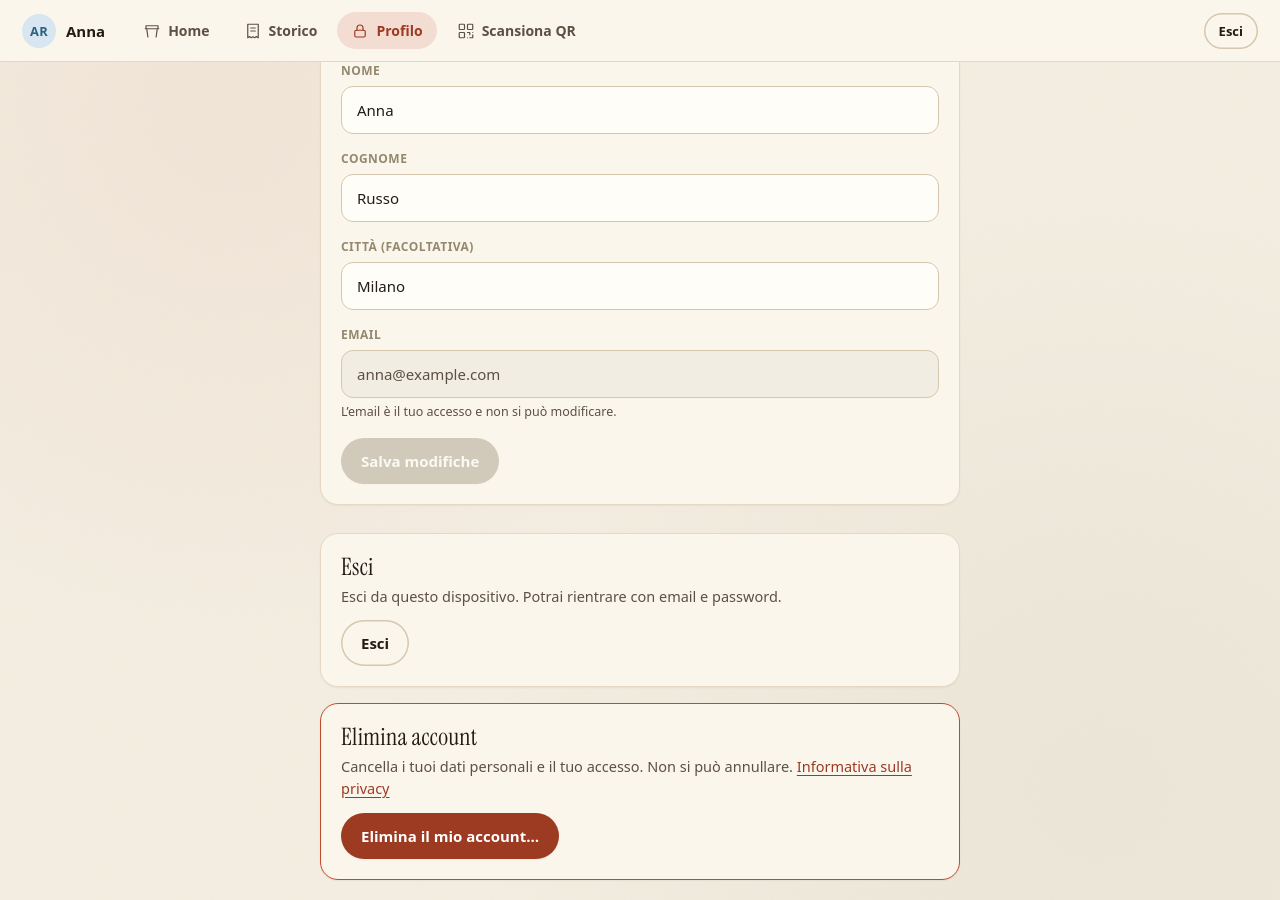
profilo: elimina account › la finestra spiega cosa si cancella e cosa resta, e dà il focus alla password
(page scrolled)
Click the button "Elimina il mio account…".
click(450, 836)  # box [341,813,559,859]
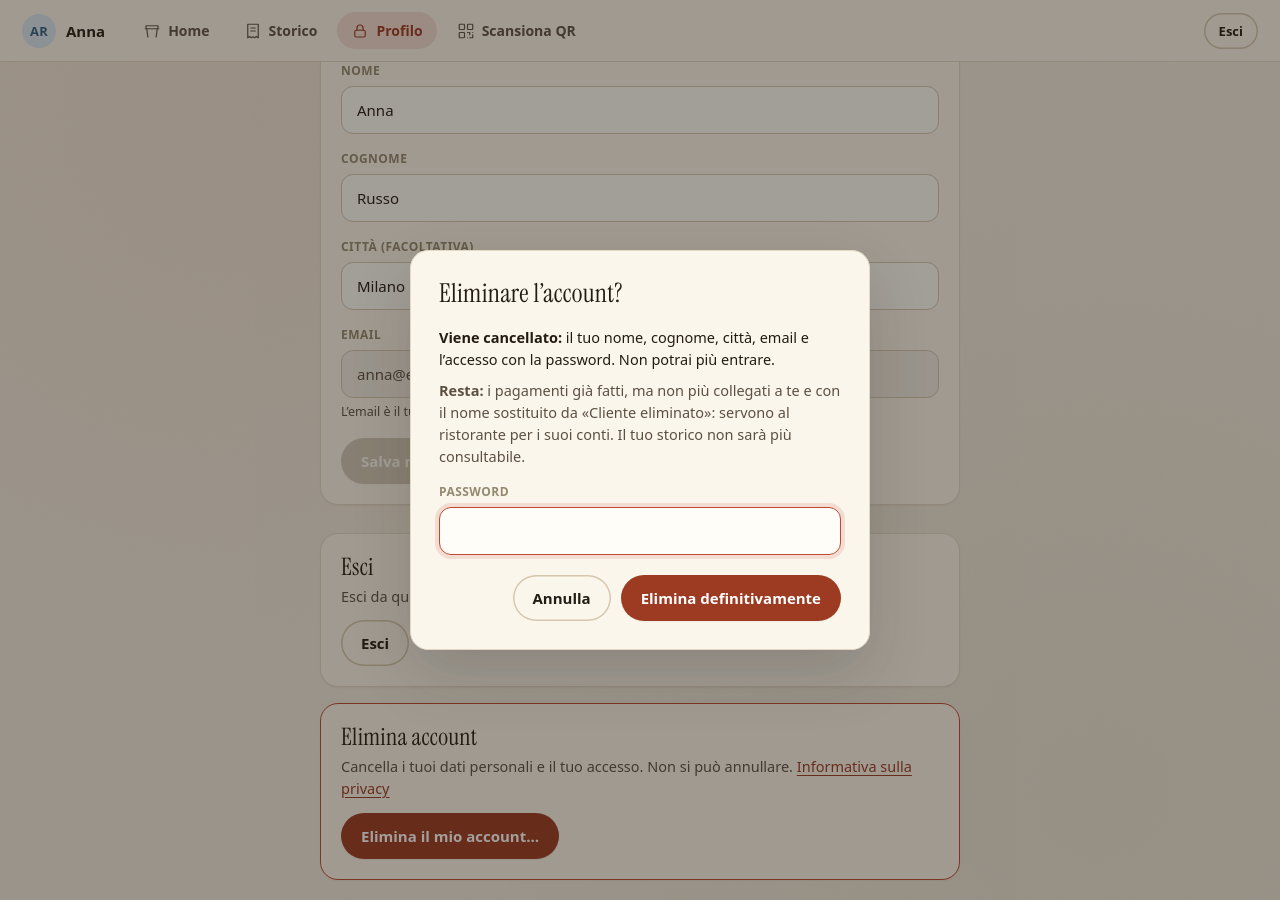
Expected: the text "Viene cancellato:" is shown, [439,327,562,347]
Expected: the text "Resta:" is shown, [439,380,484,400]
